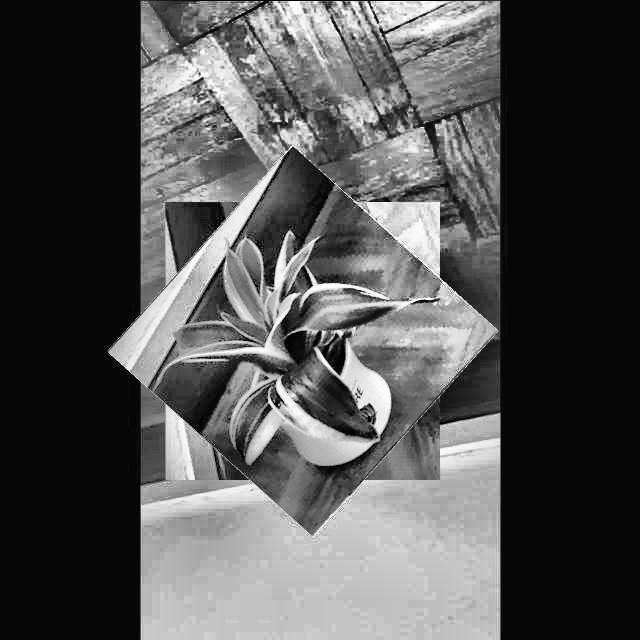plants: (136, 173, 470, 508)
